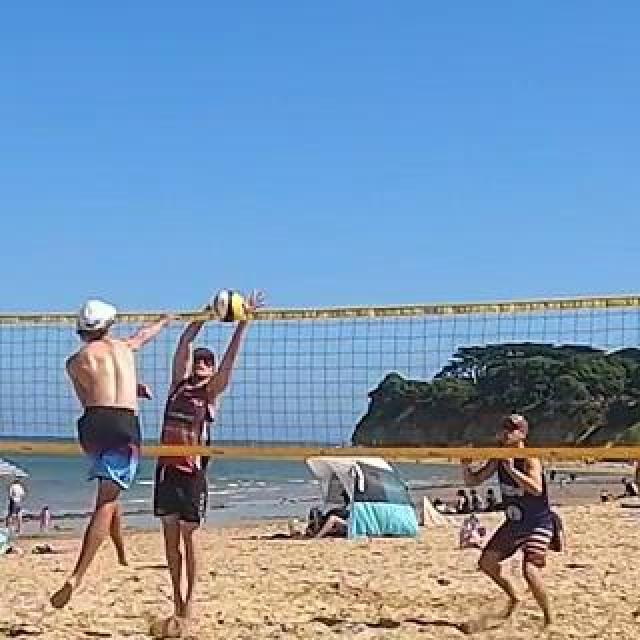volleyball: (214, 290, 250, 320)
